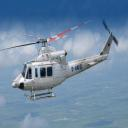helicopter: (2, 15, 121, 104)
